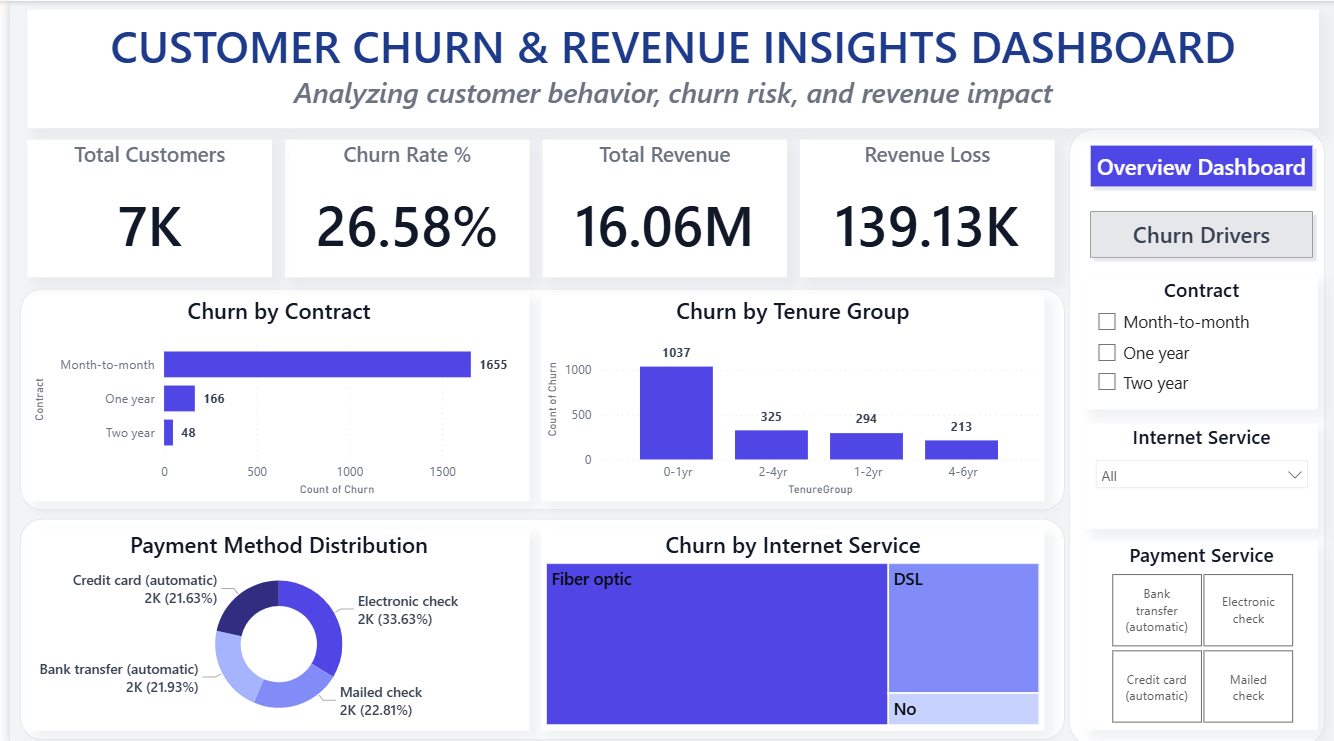

The page's visual inventory and layout, read from the dashboard file:
{"tool":"powerbi","page":{"name":"CustomerChurn&RevenueInsights","canvas":[1280,720],"ordinal":0},"visuals":[{"type":"shape","box":[1021.9,123.1,247.3,597.2],"z":0},{"type":"shape","box":[9.6,499.5,1008.6,214.1],"z":1000},{"type":"shape","box":[9.6,277.2,1008.6,214.1],"z":2000},{"type":"textbox","box":[16.9,8.4,1246.3,114.6],"z":3000},{"type":"cardVisual","title":"Churn Rate %","fields":{"Data":["FinalChurnData.ChurnRate%"]},"box":[265.3,134.5,236,133.1],"z":4000},{"type":"cardVisual","title":"Total Revenue","fields":{"Data":["FinalChurnData.TotalRevenue"]},"box":[514.1,134.5,236,133.1],"z":5000},{"type":"cardVisual","title":"Revenue Loss","fields":{"Data":["FinalChurnData.RevenueLoss"]},"box":[763,134.5,245.6,133.1],"z":6000},{"type":"cardVisual","title":"Total Customers","fields":{"Data":["FinalChurnData.TotalCustomers"]},"box":[16.5,134.5,236,133.1],"z":7000},{"type":"clusteredBarChart","title":"Churn by Contract","fields":{"Category":["FinalChurnData.Contract"],"Y":["FinalChurnData.ChurnCount"]},"box":[17.8,284,483,199],"z":8000},{"type":"clusteredColumnChart","title":"Churn by Tenure Group","fields":{"Y":["FinalChurnData.ChurnCount"],"Category":["FinalChurnData.TenureGroup"]},"box":[513.2,284,485.8,199],"z":9000},{"type":"donutChart","title":"Payment Method Distribution","fields":{"Y":["FinalChurnData.TotalCustomers"],"Category":["FinalChurnData.PaymentMethod"]},"box":[17.8,509.1,483,194.9],"z":10000},{"type":"treemap","title":"Churn by Internet Service","fields":{"Group":["FinalChurnData.InternetService"],"Values":["FinalChurnData.ChurnCount"]},"box":[513.2,509.1,485.8,194.9],"z":11000},{"type":"slicer","title":"Contract","fields":{"Values":["FinalChurnData.Contract"]},"box":[1037.4,265.5,225,129],"z":12000},{"type":"slicer","title":"Internet Service","fields":{"Values":["FinalChurnData.InternetService"]},"box":[1037.4,407.2,225,101.5],"z":13000},{"type":"slicer","title":"Payment Service","fields":{"Values":["FinalChurnData.PaymentMethod"]},"box":[1037.4,521.4,225,182.5],"z":14000},{"type":"actionButton","box":[1037.4,134.5,225,50.8],"z":15000},{"type":"actionButton","box":[1037.4,197.9,225,54.9],"z":16000}]}

Visuals, with their boxes in screenshot pixels (x1, y1, x2, y2), scaled from the page's 1280x720 canvas onto the 1334x741 screenshot:
shape: crop(1065, 127, 1323, 740)
shape: crop(10, 514, 1061, 734)
shape: crop(10, 285, 1061, 506)
textbox: crop(18, 9, 1316, 127)
"Churn Rate %" cardVisual: crop(276, 138, 522, 275)
"Total Revenue" cardVisual: crop(536, 138, 782, 275)
"Revenue Loss" cardVisual: crop(795, 138, 1051, 275)
"Total Customers" cardVisual: crop(17, 138, 263, 275)
"Churn by Contract" clusteredBarChart: crop(19, 292, 522, 497)
"Churn by Tenure Group" clusteredColumnChart: crop(535, 292, 1041, 497)
"Payment Method Distribution" donutChart: crop(19, 524, 522, 725)
"Churn by Internet Service" treemap: crop(535, 524, 1041, 725)
"Contract" slicer: crop(1081, 273, 1316, 406)
"Internet Service" slicer: crop(1081, 419, 1316, 524)
"Payment Service" slicer: crop(1081, 537, 1316, 724)
actionButton: crop(1081, 138, 1316, 191)
actionButton: crop(1081, 204, 1316, 260)
